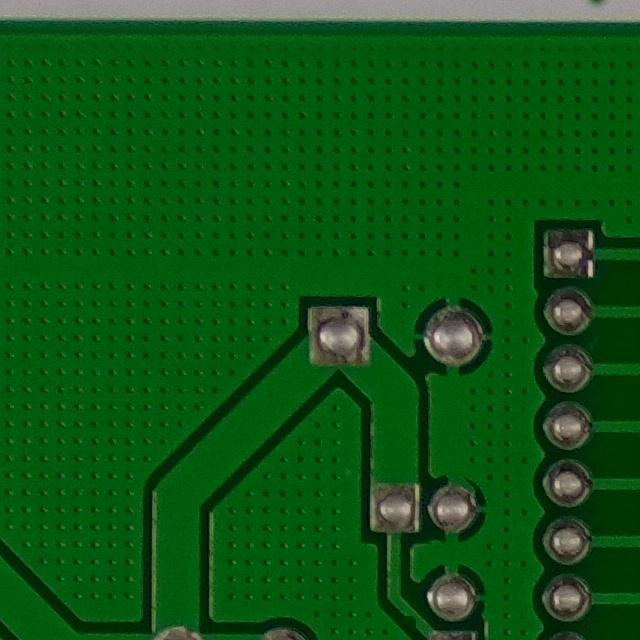mouse_bite: (392, 607, 427, 639)
